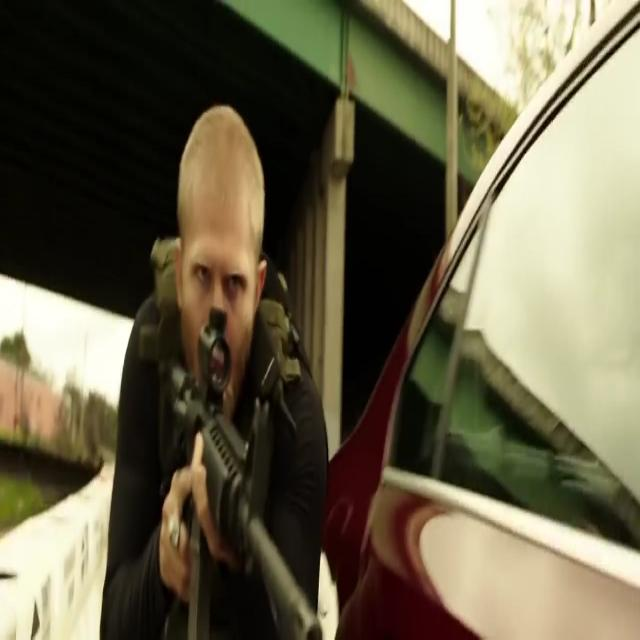Weapon: (136, 337, 317, 640)
